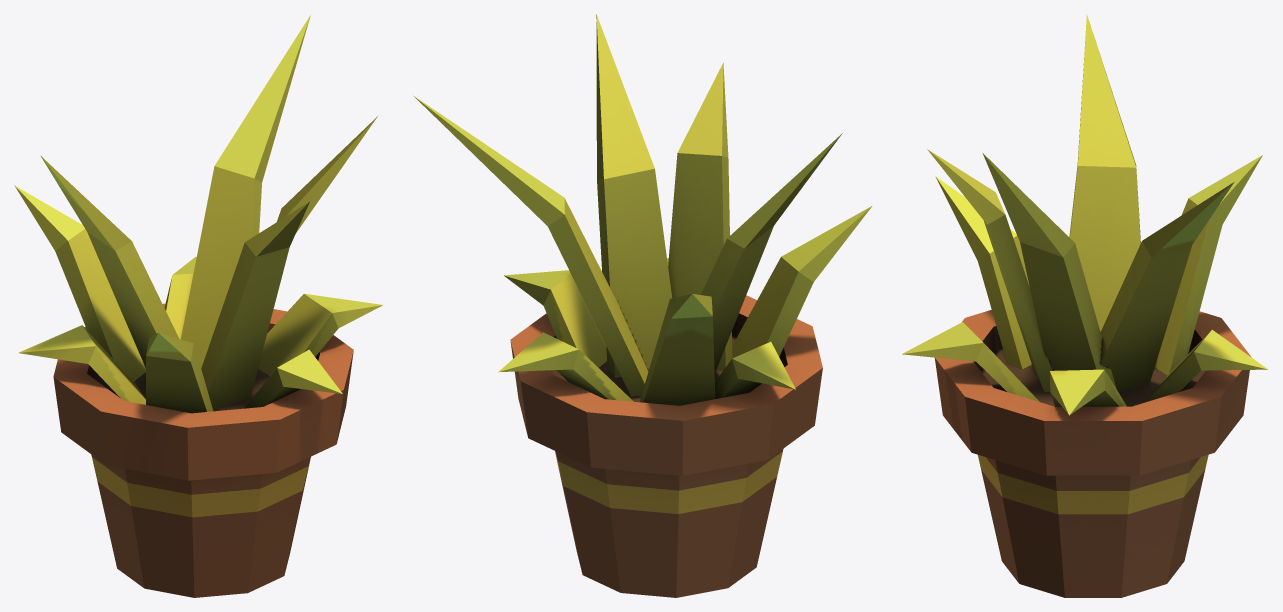
Rendered from PUSHILIN_plant.gltf.
3 views of the same model, side by side, from view 1: azimuth 30°, elevation 25°; view 2: azimuth 150°, elevation 25°; view 3: azimuth 270°, elevation 25° (orthographic). The views are drawn at different scales.
Parts seen in each view (by area): view 1: node-0; view 2: node-0; view 3: node-0.
Boxes of the visible parts, x1,y1,x2,y2 form: node-0: (14,14,382,597); node-0: (413,14,871,597); node-0: (902,14,1267,597).
Bounding box in the file's own units: 1.35 × 1.71 × 1.21.
1 material, 1 textured.
